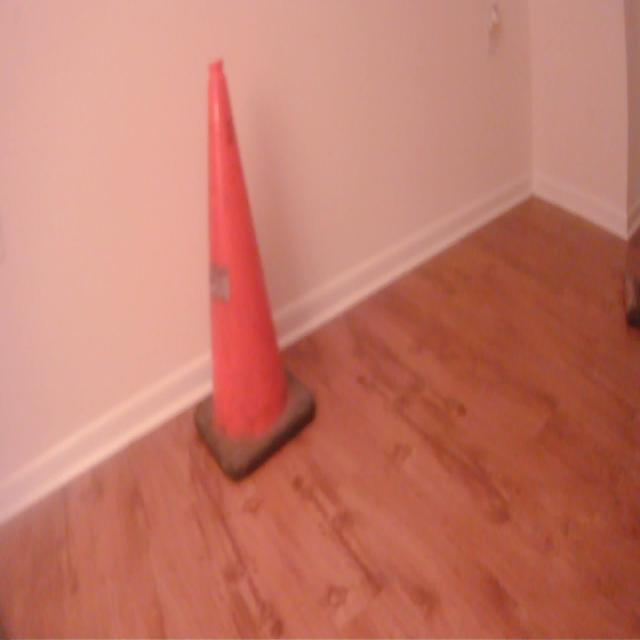traffic cone: (190, 54, 321, 487)
